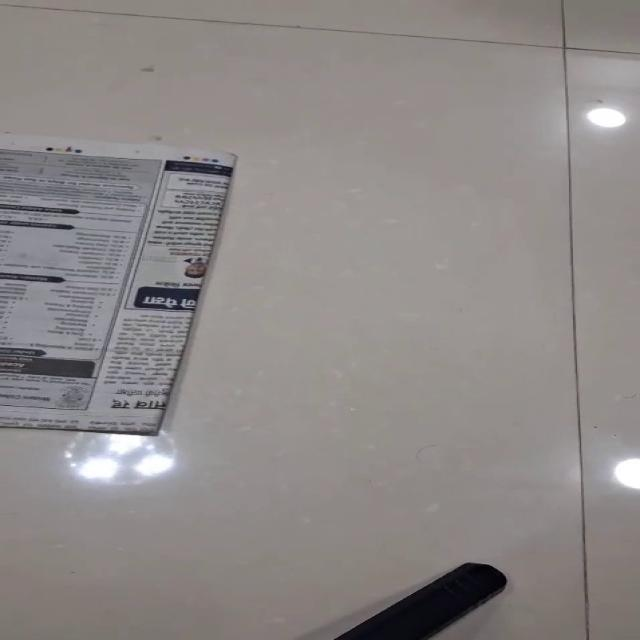paper: (0, 132, 237, 436)
